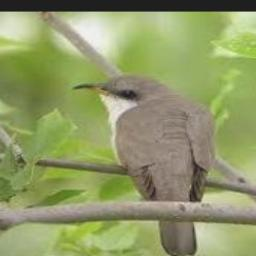Cuckoo: (72, 75, 220, 256)
